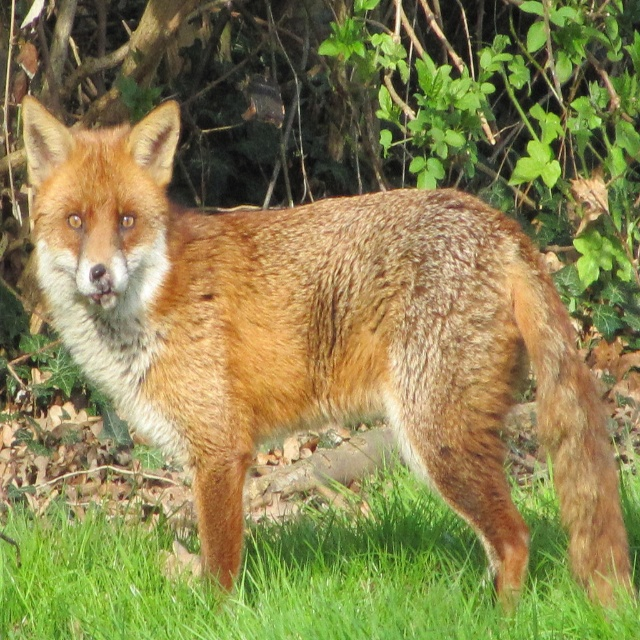Fox: (20, 95, 637, 629)
